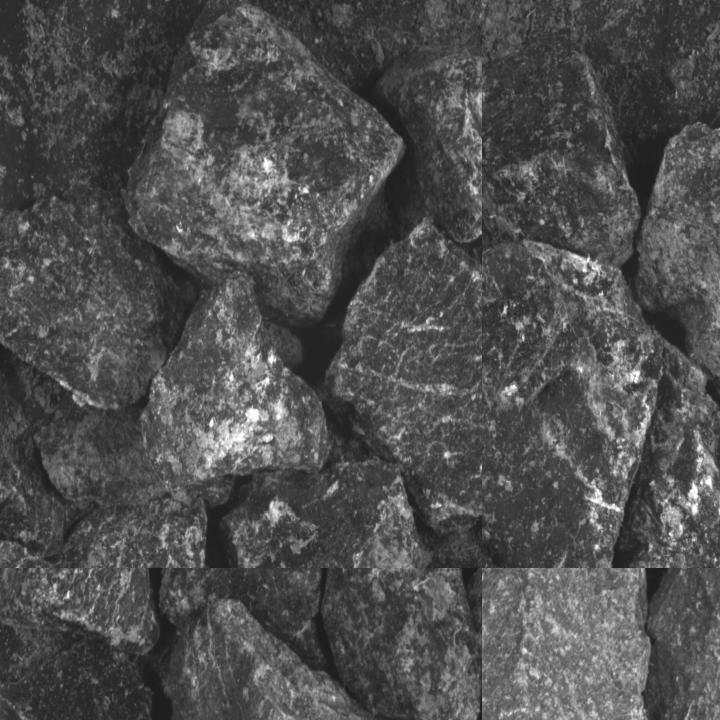stone: (123, 0, 408, 328), (9, 284, 330, 514), (482, 243, 664, 567), (320, 213, 481, 538), (164, 592, 481, 719), (482, 40, 638, 266), (0, 201, 162, 415), (222, 432, 442, 567), (482, 568, 650, 719), (635, 107, 719, 404), (322, 568, 481, 719), (614, 340, 719, 567), (383, 51, 481, 246), (162, 568, 328, 667), (0, 316, 70, 542), (0, 621, 160, 719), (0, 568, 165, 658), (57, 497, 240, 567), (647, 568, 719, 719)
